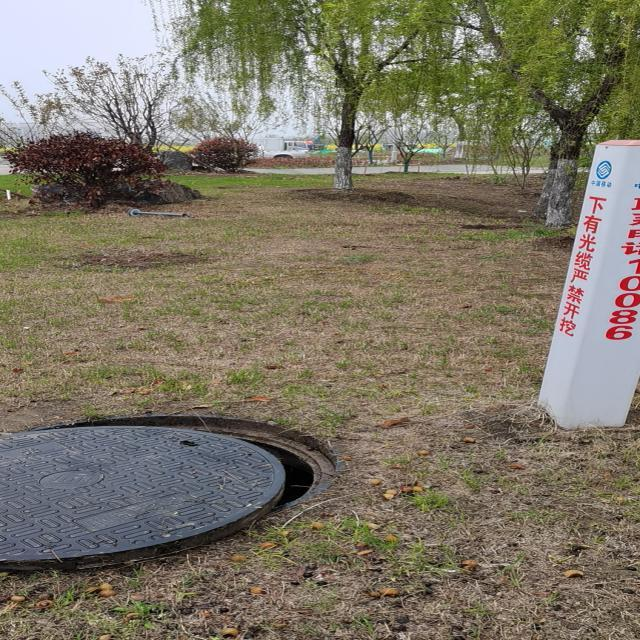Faulty: (7, 414, 330, 570)
